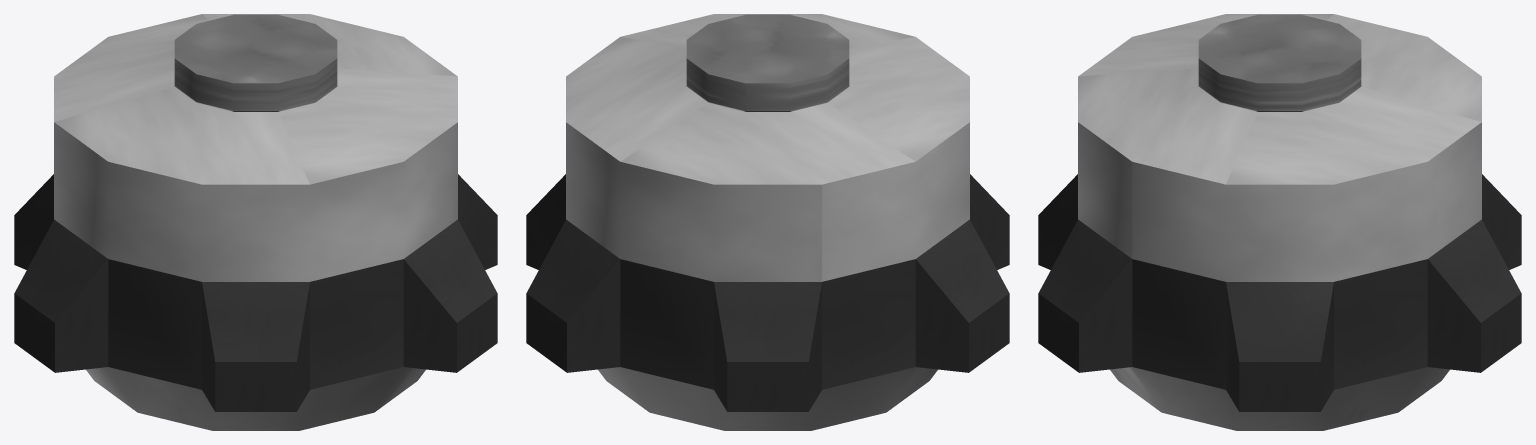
Rendered from Masscon.FBX.
3 views of the same model, side by side, from view 1: azimuth 30°, elevation 25°; view 2: azimuth 150°, elevation 25°; view 3: azimuth 270°, elevation 25° (orthographic).
Parts seen in each view (by area): view 1: Cylinder001, Cylinder003; view 2: Cylinder001, Cylinder003; view 3: Cylinder001, Cylinder003.
Part boxes in pixels (x1,y1,x2,y2): Cylinder001: [14, 14, 497, 430]; Cylinder003: [174, 14, 337, 111]; Cylinder001: [526, 14, 1009, 430]; Cylinder003: [686, 14, 849, 111]; Cylinder001: [1038, 14, 1521, 430]; Cylinder003: [1198, 14, 1361, 111].
Size of what is drawn, in the model's own units: 0.3814 by 0.3607 by 0.2583.
1 material, 1 textured.
